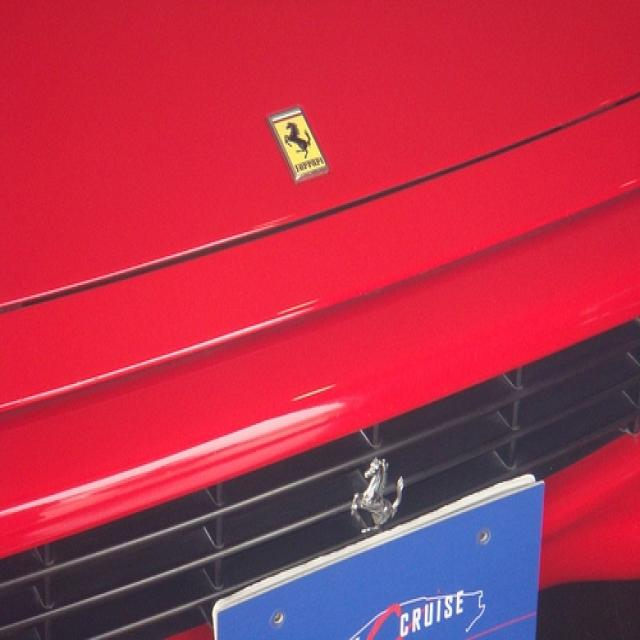ferrari: (271, 109, 326, 180)
